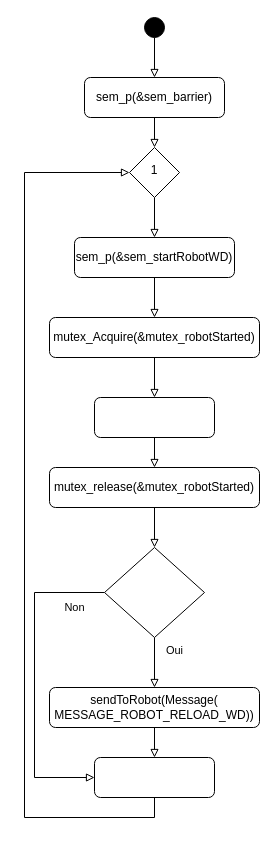
This 277x843 diagram has some shape labels left out. Here are the shapes that lost their labels. From the top down, the box of each, then its label:
(94, 396, 214, 438): int rs = robotStarted
(104, 546, 204, 638): robotStarted == 1
(94, 756, 214, 798): wait_period(NULL)
